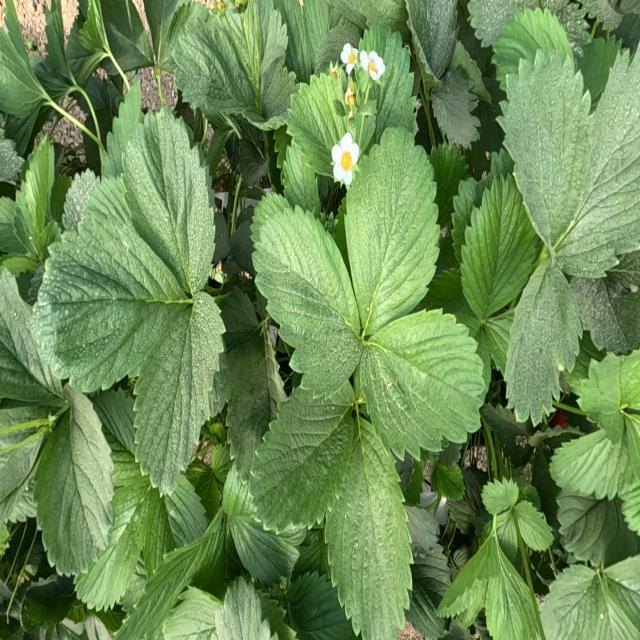Flowers: (332, 133, 359, 186), (359, 48, 384, 79), (341, 43, 357, 71)
Leaves: (34, 176, 184, 390), (253, 207, 360, 396), (346, 130, 439, 333), (112, 106, 214, 291), (499, 46, 591, 247), (326, 422, 411, 639), (360, 310, 486, 455), (564, 43, 639, 265), (134, 301, 223, 488), (118, 507, 243, 639), (250, 385, 356, 528), (35, 391, 114, 577), (505, 258, 581, 423), (78, 467, 159, 610), (461, 169, 536, 319), (0, 0, 61, 155), (222, 466, 302, 583), (0, 139, 59, 277), (173, 16, 254, 116), (0, 271, 60, 405), (219, 0, 287, 113), (141, 474, 207, 578), (227, 329, 272, 478), (492, 8, 574, 88), (572, 261, 639, 354), (287, 74, 347, 177), (34, 0, 95, 100), (485, 542, 544, 639), (550, 428, 629, 499), (67, 0, 129, 88), (482, 478, 553, 553), (540, 564, 610, 639), (1, 401, 53, 501), (273, 0, 332, 81), (286, 571, 354, 639), (375, 28, 415, 139), (405, 0, 458, 80), (407, 544, 451, 639), (436, 545, 494, 617), (557, 492, 617, 561), (420, 269, 480, 337), (101, 84, 144, 178), (579, 354, 623, 443), (99, 0, 152, 71), (431, 69, 479, 146), (215, 577, 271, 639), (163, 473, 207, 547), (90, 387, 135, 459), (577, 37, 621, 110), (430, 143, 468, 227), (162, 587, 223, 639), (601, 554, 639, 637), (468, 1, 534, 47), (483, 405, 531, 465), (144, 1, 182, 71), (24, 575, 75, 626), (541, 0, 590, 52), (260, 55, 296, 122), (477, 309, 514, 373), (447, 469, 481, 535), (186, 459, 221, 523), (62, 169, 96, 230), (513, 501, 553, 551), (0, 199, 30, 254), (404, 505, 439, 552), (86, 77, 120, 119), (239, 137, 267, 186), (432, 462, 463, 499), (620, 350, 639, 409), (1, 138, 23, 183), (211, 444, 232, 485), (243, 106, 261, 122)
Strawberries: (345, 86, 355, 118)
